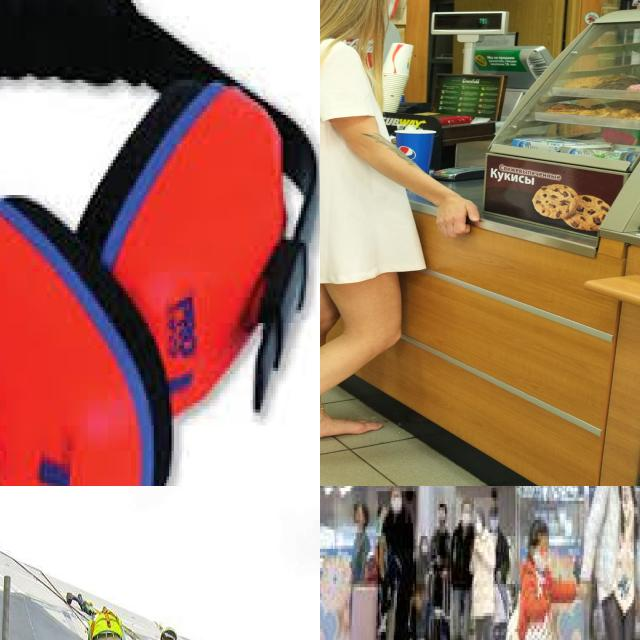Barefoots: (320, 418, 382, 443)
Ear-protection: (78, 70, 288, 416), (0, 182, 161, 486)
face_mask: (532, 539, 548, 571), (391, 491, 402, 514), (461, 504, 471, 526), (488, 514, 498, 530), (437, 508, 445, 526), (474, 514, 482, 532), (421, 539, 427, 552)
face_nomask: (354, 504, 362, 526)
head_helmet: (158, 622, 181, 640)
head_nohelmet: (528, 514, 551, 546)
person: (589, 486, 640, 640), (510, 523, 577, 640), (378, 491, 418, 640), (473, 497, 496, 640), (451, 504, 475, 640), (433, 488, 451, 640), (76, 601, 141, 640)
vest: (86, 613, 127, 640)
